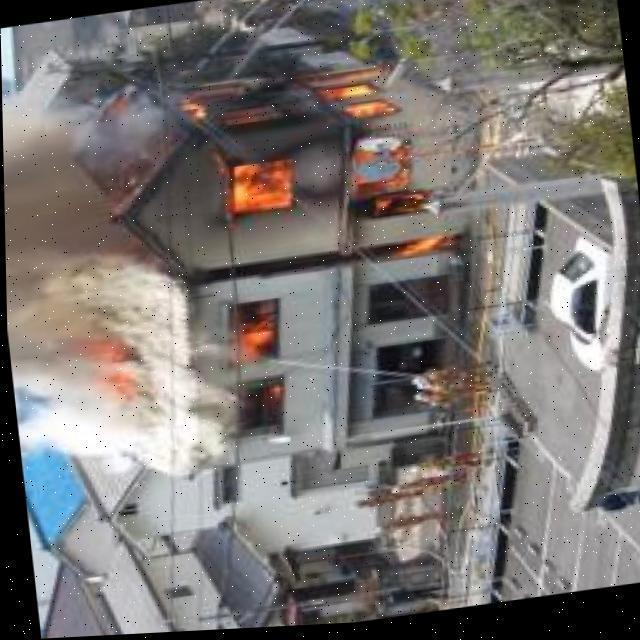fire: (160, 41, 464, 299), (218, 307, 298, 453), (62, 319, 158, 432)
